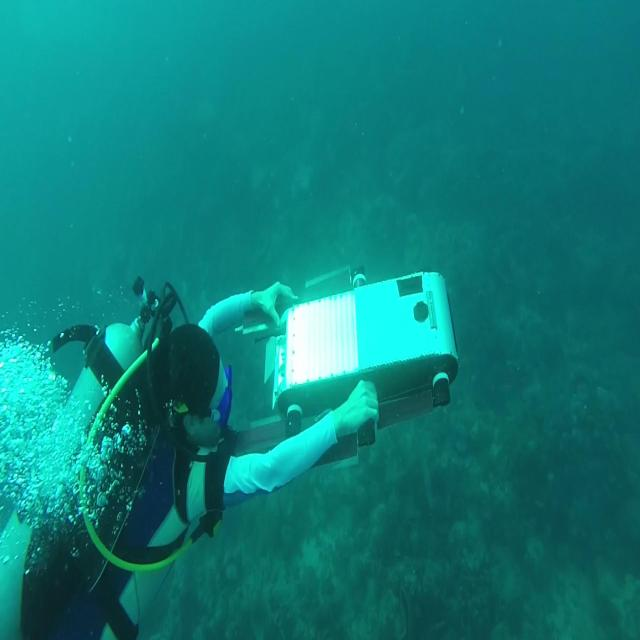human: (16, 286, 380, 638)
